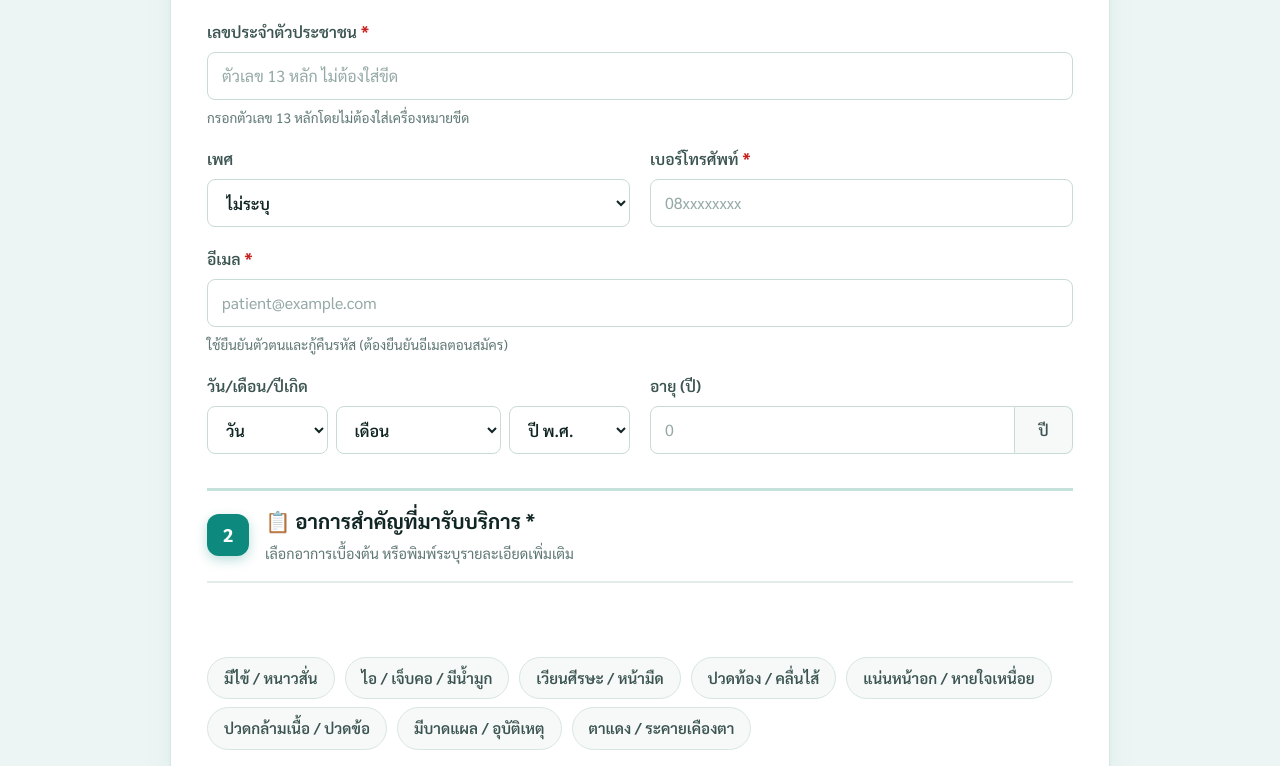
Scenario: RegistrationView › calculates age automatically when birth date is selected
(page scrolled)
Select "1" in the dropdown named "วันเกิด" at (267, 430), box [207,406,328,454]
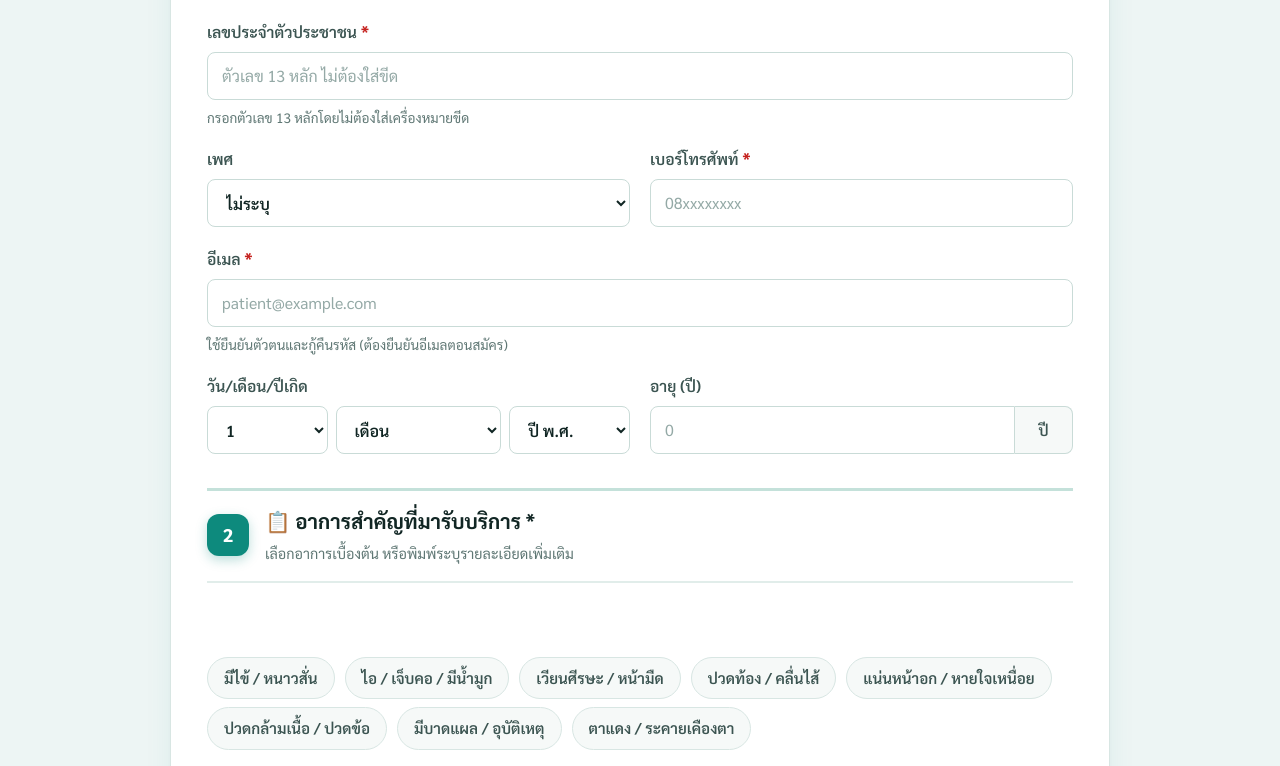
Select "มกราคม" in the dropdown named "เดือนเกิด" at (419, 430), box [336,406,502,454]
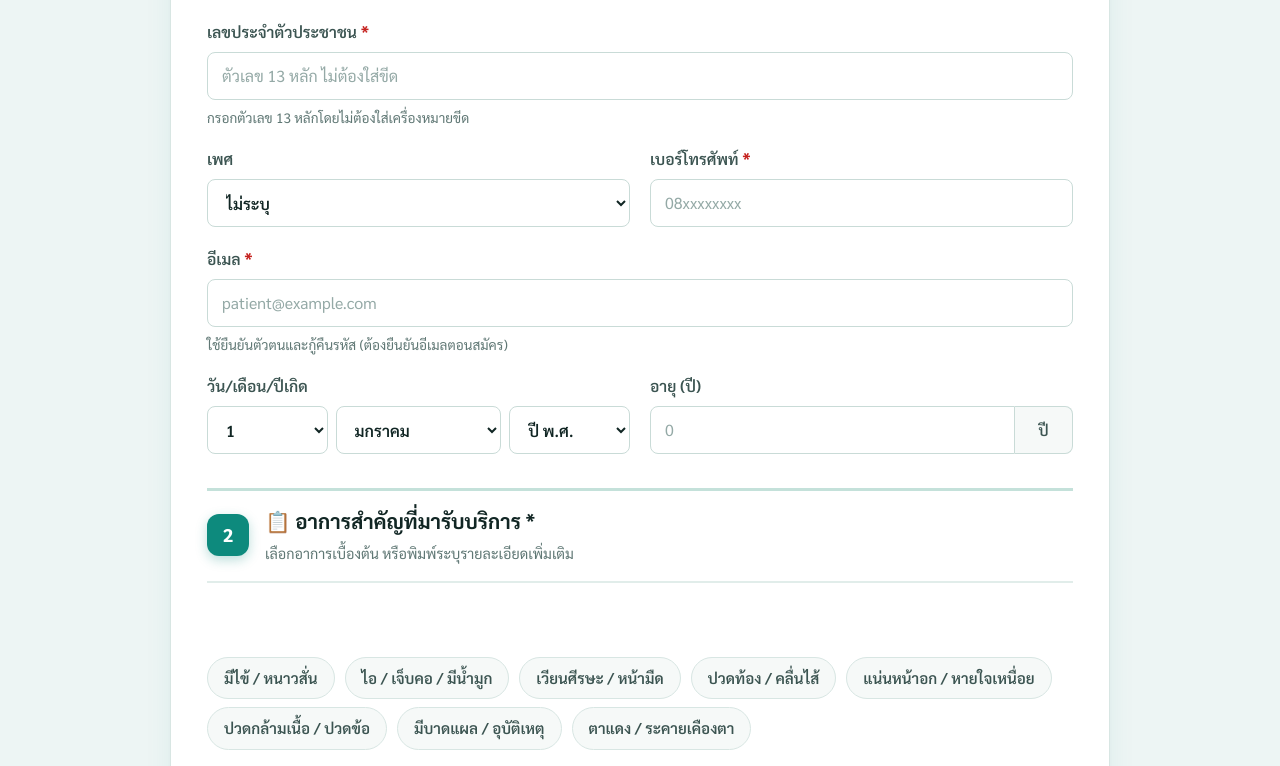
Select "2543" in the dropdown named "ปีเกิด (พ.ศ.)" at (570, 430), box [509,406,630,454]
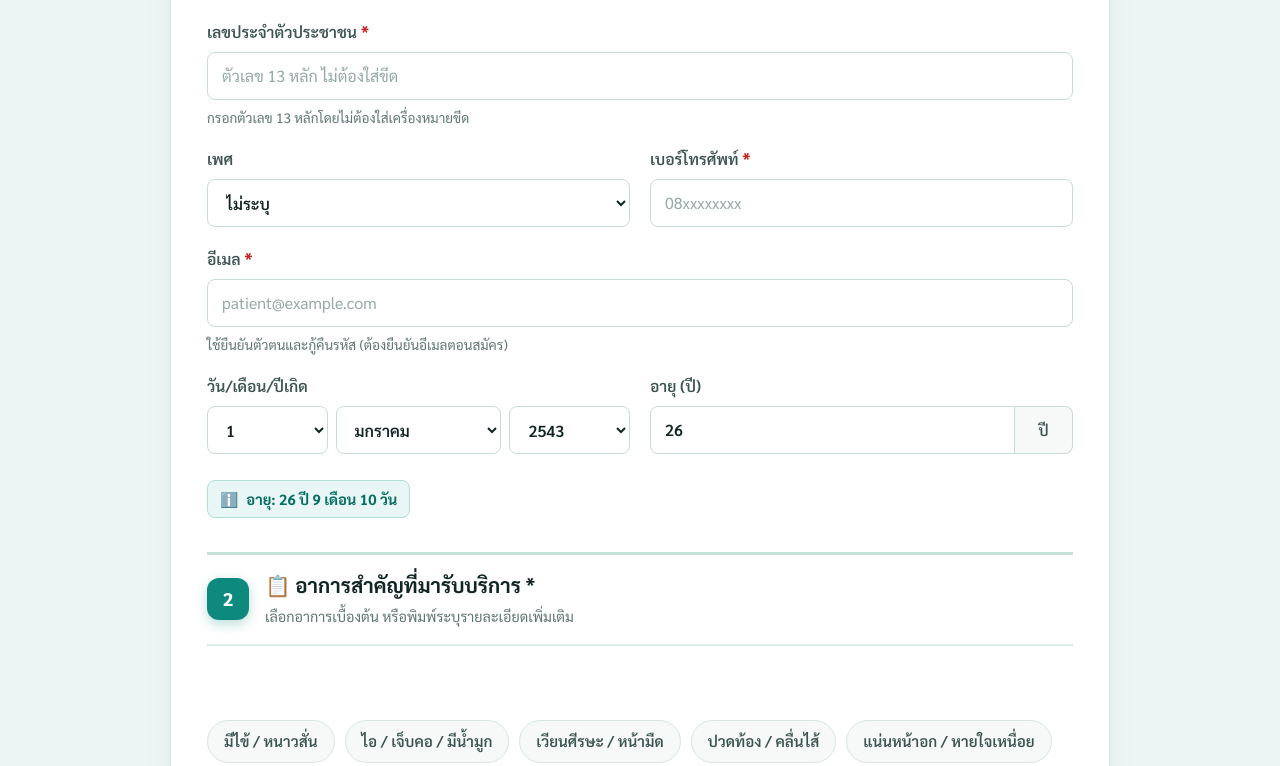
Expected: the message shows "อายุ:", [246,489,397,508]
